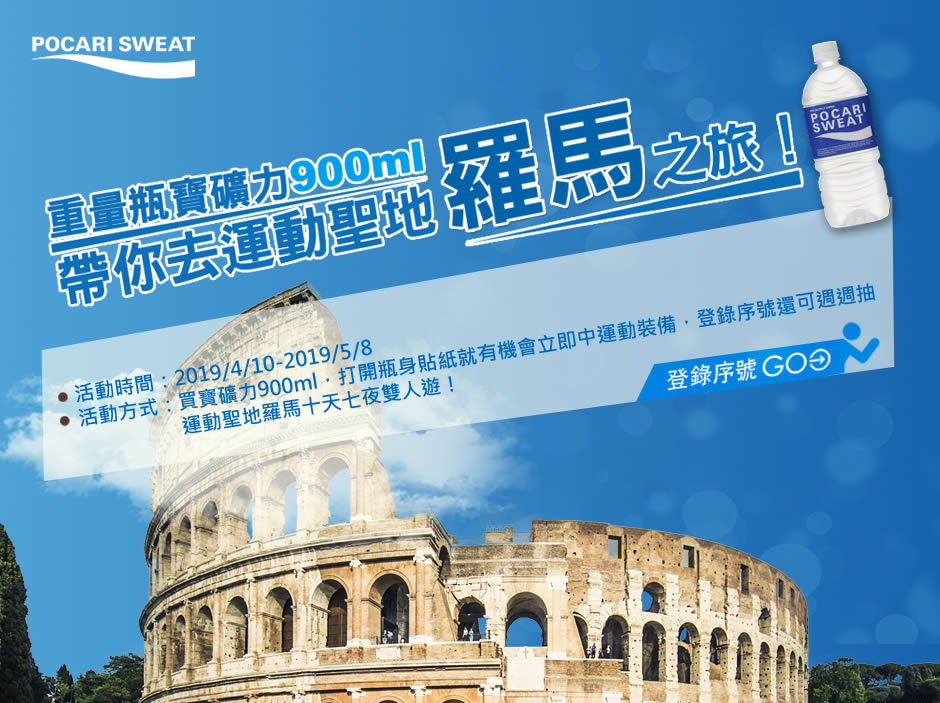POCARI SWEAT: (794, 29, 892, 229)
